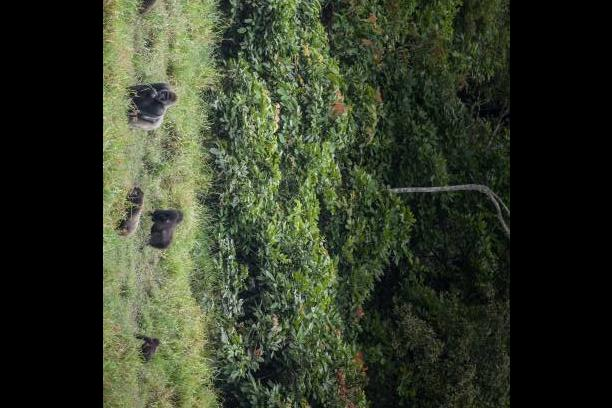gorille_Autres: (121, 76, 180, 134)
